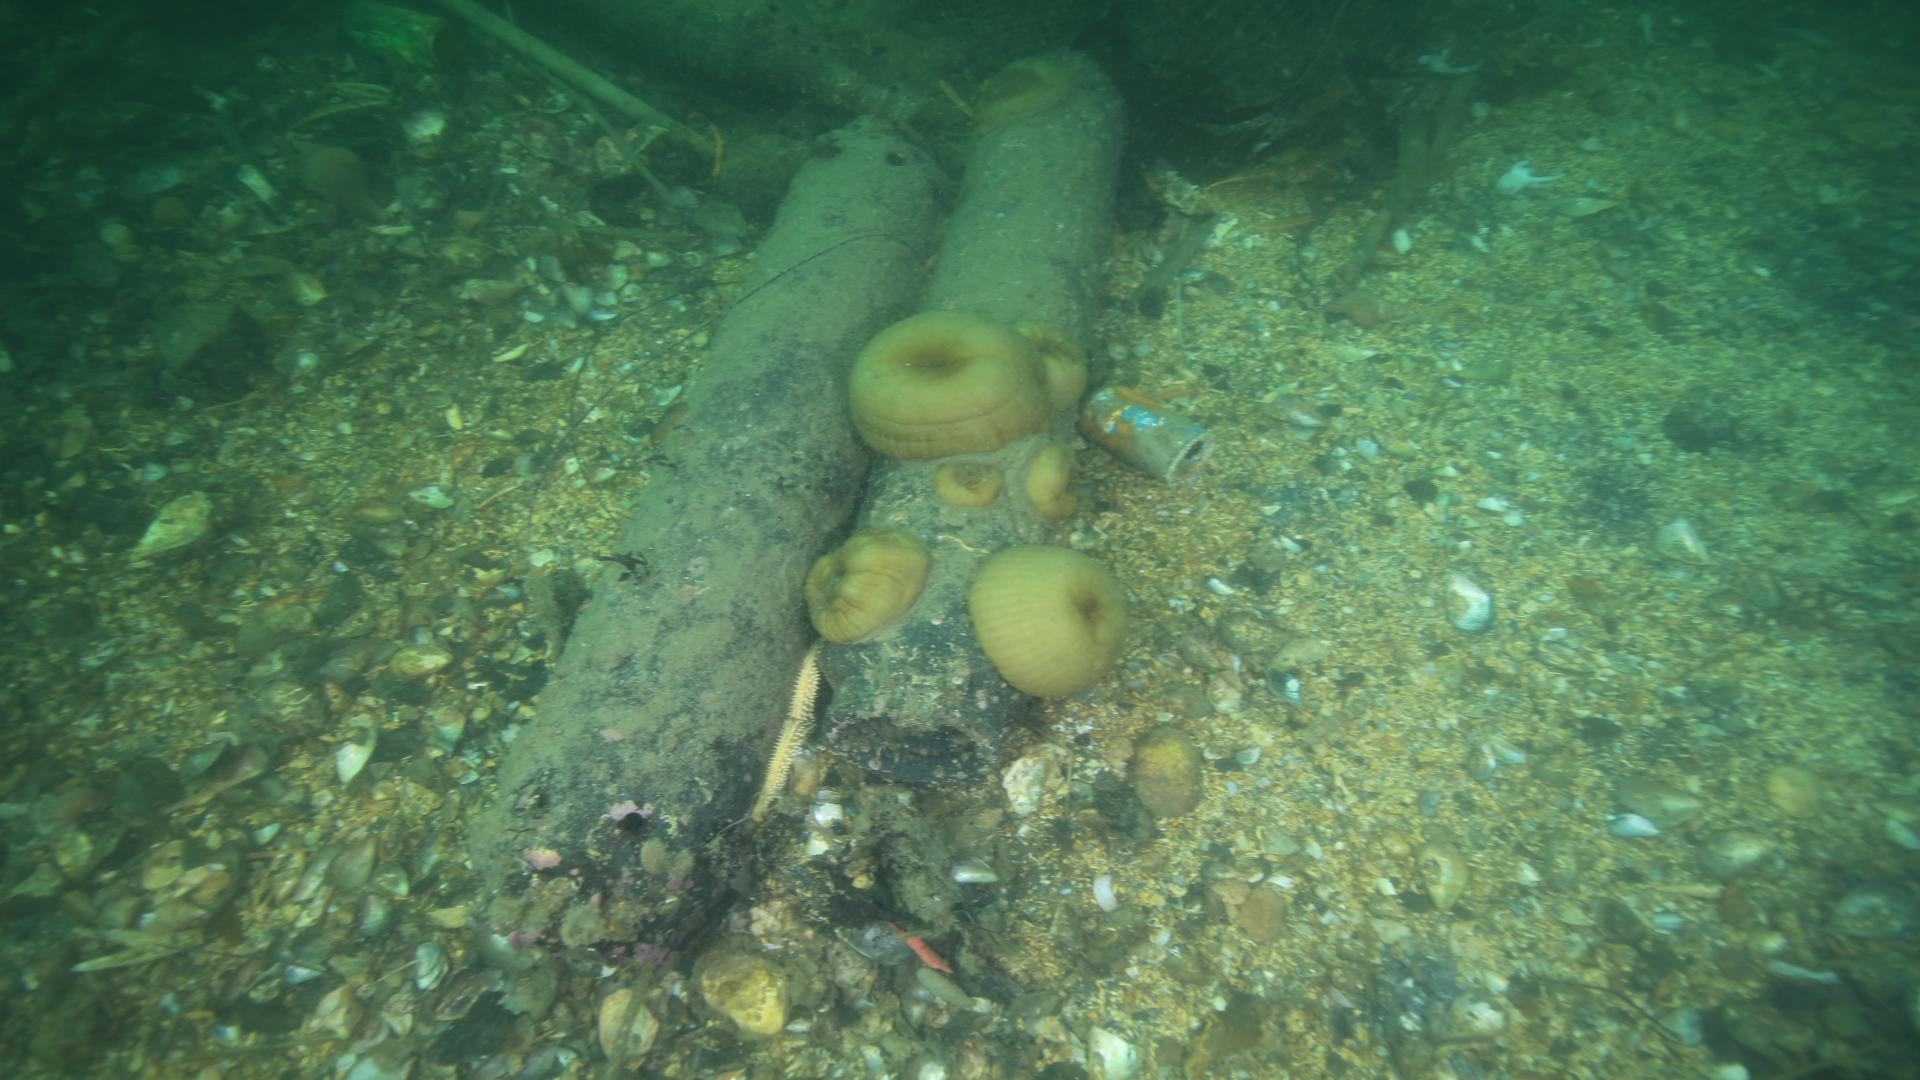eel fish trap: (467, 108, 955, 978), (810, 42, 1135, 800)
